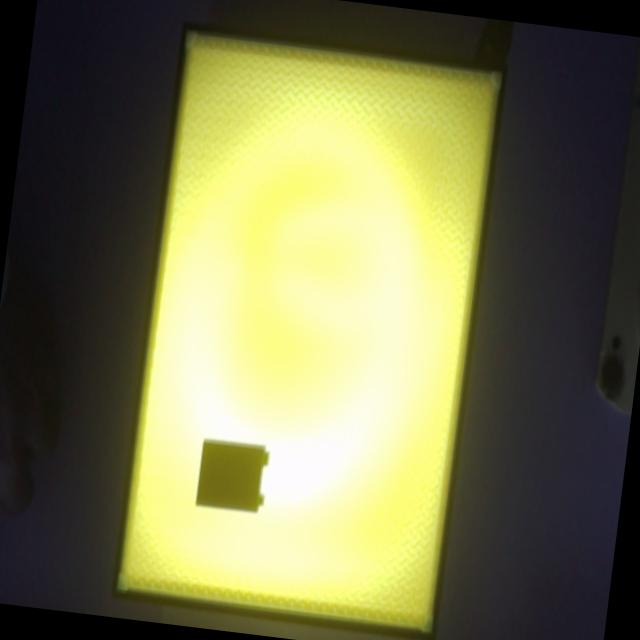bateria: (195, 439, 268, 513)
mesa: (112, 20, 507, 640)
